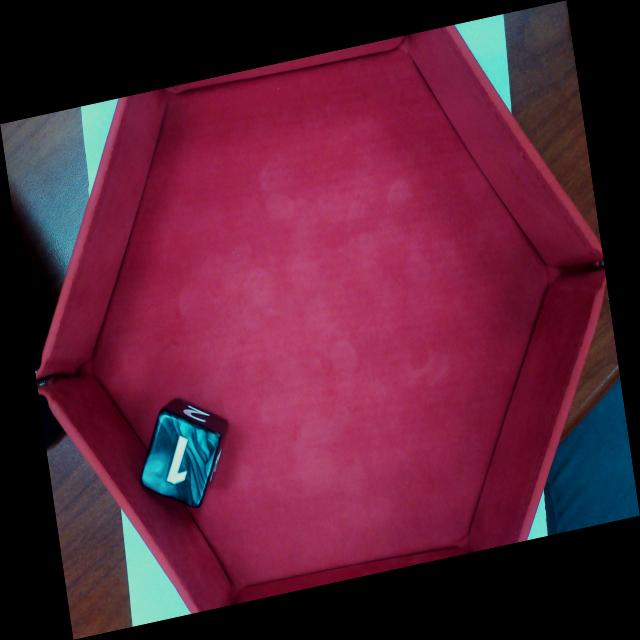dice: (142, 418, 220, 504)
